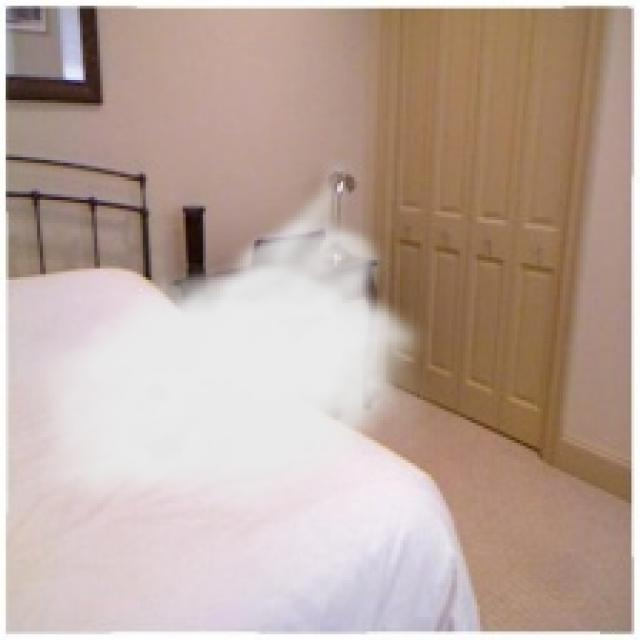smoke: (12, 154, 434, 523)
